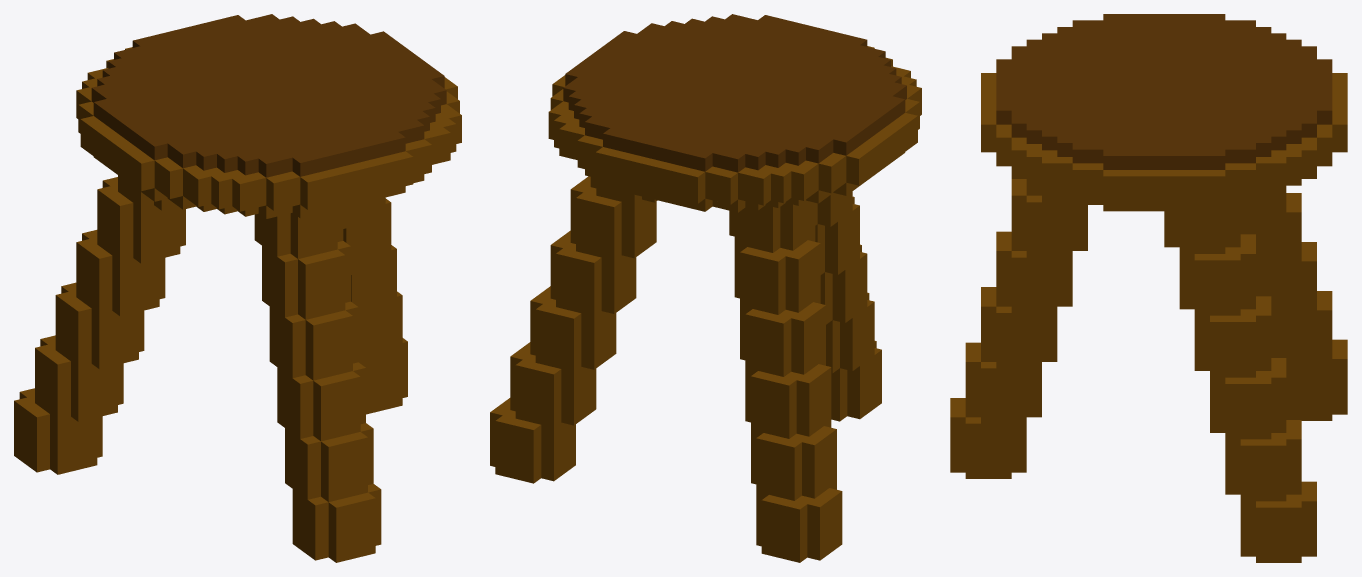
Rendered from tabouret.obj.
3 renders of one model, left to right at view 1: azimuth 30°, elevation 25°; view 2: azimuth 150°, elevation 25°; view 3: azimuth 270°, elevation 25°, orthographic. The views are drawn at different scales.
Bounding box in the file's own units: 27 × 28 × 26.
1 material, 1 textured.
